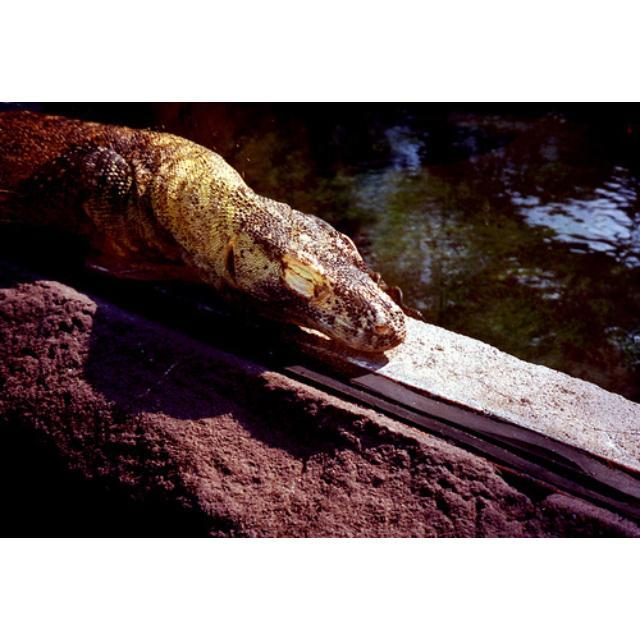KomodoDragon: (0, 104, 408, 353)
